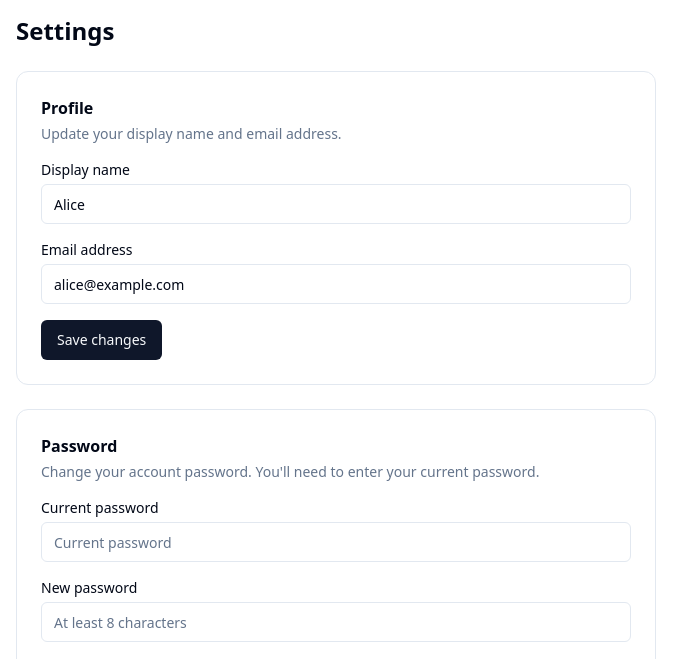
Test: SettingsPage � password form › shows error when new password is shorter than 8 characters
The width and height of the screenshot is (673, 659).
Type "old" into the password field with placeholder "Current password". click: [336, 542]
box: [41, 522, 631, 562]
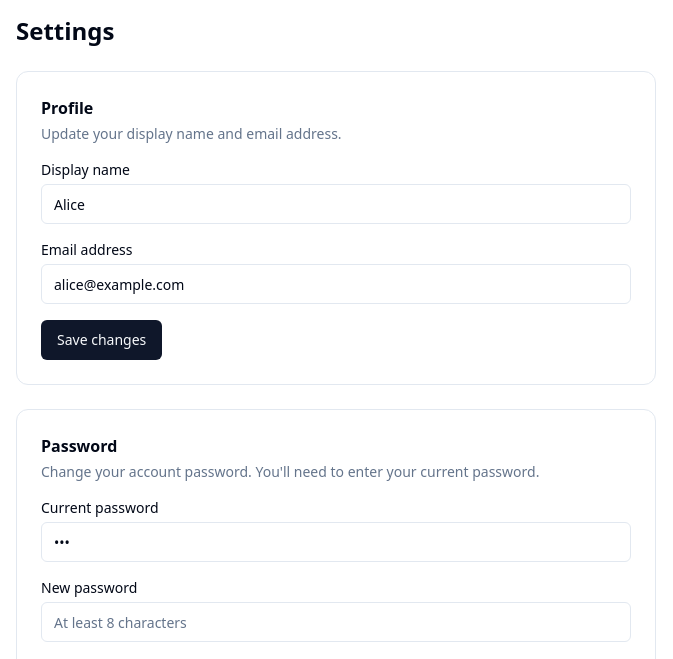
Type "short" into the password field labelled "New password". click: [336, 622]
box: [41, 602, 631, 642]
(page scrolled)
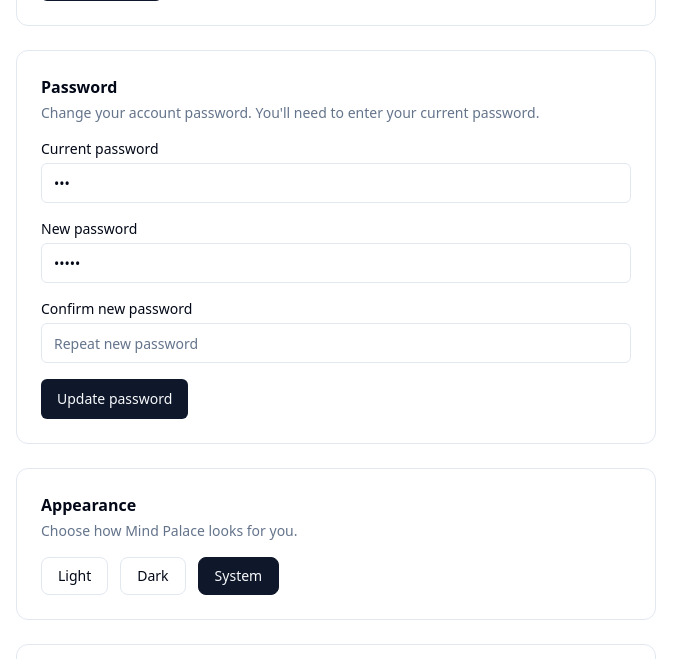
Type "short" into the password field labelled "Confirm new password". click: [336, 343]
box: [41, 323, 631, 363]
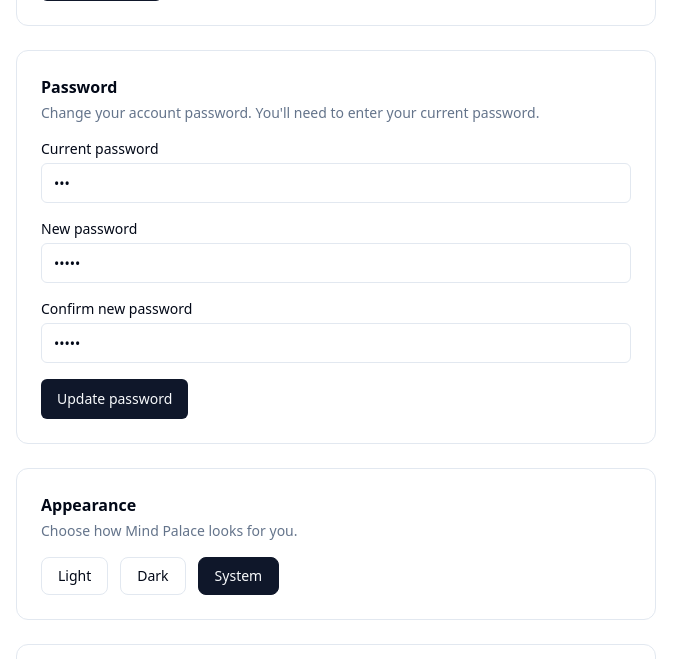
Click the button "Update password". click: [115, 399]
box: [41, 379, 188, 419]
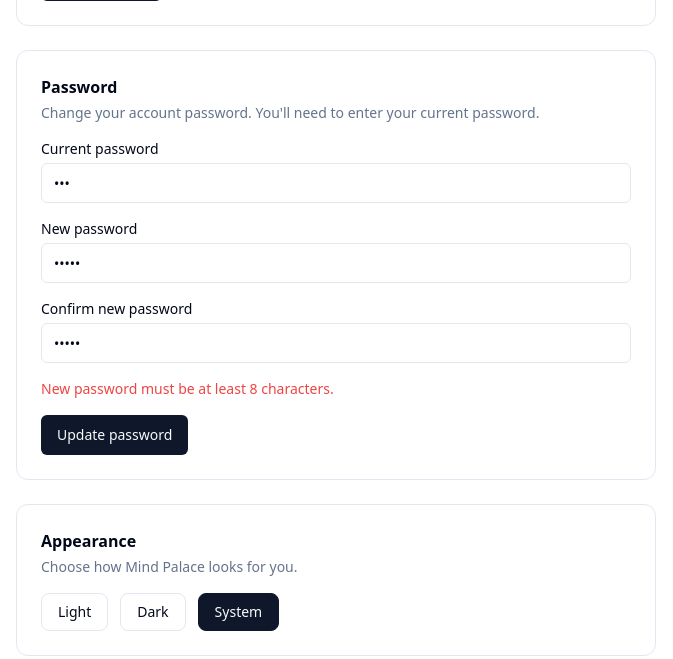
Result: the text "New password must be at least 8 characters." is shown at [41, 379, 334, 398]
